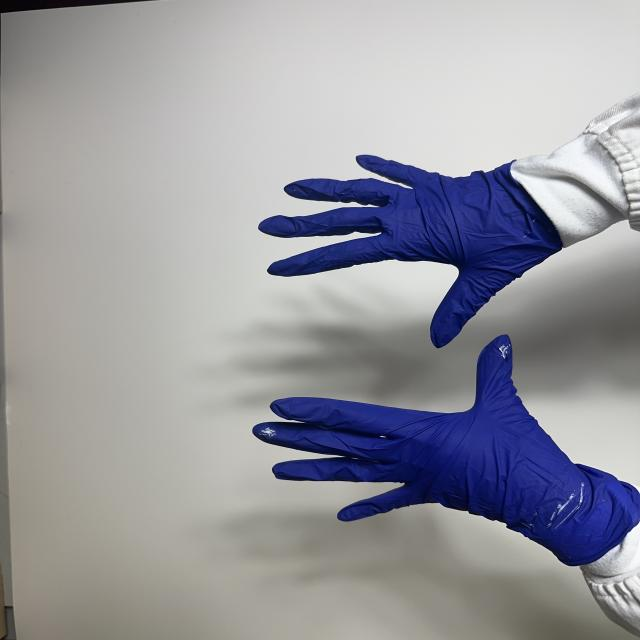gloves_contaminated: (255, 335, 640, 565), (259, 155, 562, 348)
